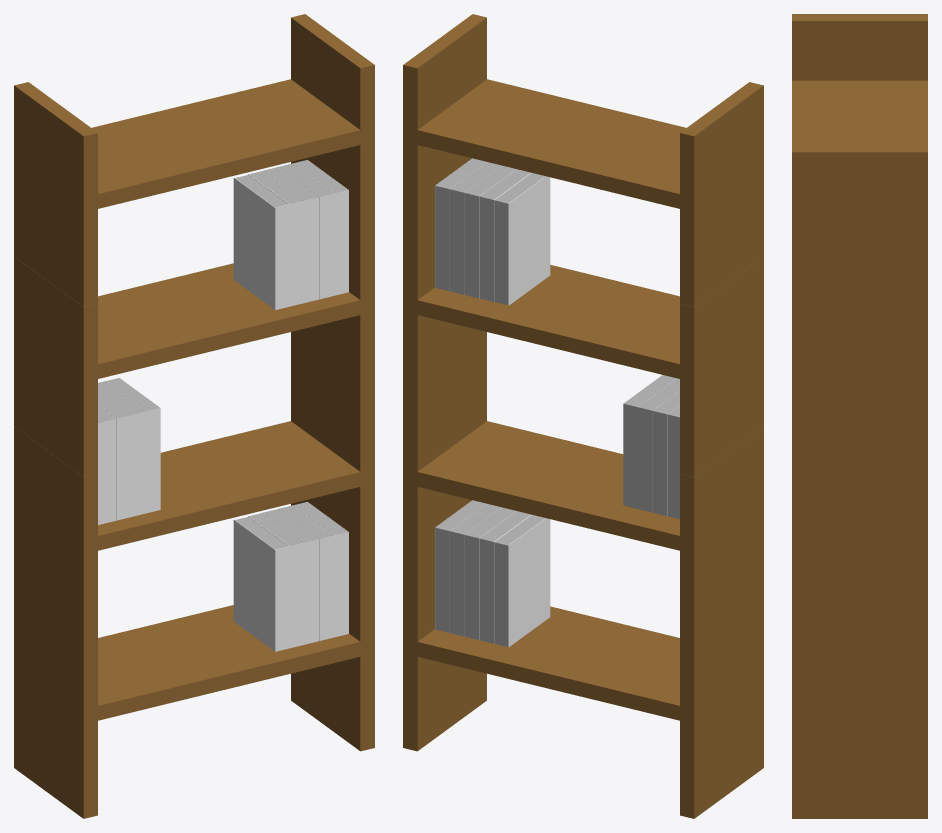
File: classroom_bookshelf.glb
3 renders of one model, left to right at view 1: azimuth 30°, elevation 25°; view 2: azimuth 150°, elevation 25°; view 3: azimuth 270°, elevation 25°, orthographic. The views are drawn at different scales.
Visible parts, largest first — view 1: Cube.004, Cube, Cube.002, Cube.003, Cube.001, Book0.002, Book0, Book3.002, Book2.002, Book3, Book2, Book4.002 (+7 smaller); view 2: Cube.004, Cube, Cube.002, Cube.003, Cube.001, Book0.002, Book0, Book2.002, Book3.002, Book3, Book2, Book4.006 (+7 smaller); view 3: Cube, Cube.004.
Part boxes in pixels (x1,y1,x2,y2): Cube.004: (14, 79, 360, 306); Cube: (291, 14, 374, 751); Cube.002: (14, 421, 360, 648); Cube.003: (14, 256, 360, 476); Cube.001: (14, 598, 360, 818); Book0.002: (233, 174, 289, 310); Book0: (233, 516, 289, 651); Book3.002: (278, 163, 334, 299); Book2.002: (263, 167, 319, 302); Book3: (278, 505, 334, 640); Book2: (263, 509, 319, 644); Book4.002: (293, 160, 348, 295); Cube.004: (417, 79, 763, 306); Cube: (403, 14, 486, 751); Cube.002: (417, 421, 763, 648); Cube.003: (417, 256, 763, 476); Cube.001: (417, 598, 763, 818); Book0.002: (494, 173, 550, 305); Book0: (494, 514, 550, 647); Book2.002: (464, 165, 516, 298); Book3.002: (449, 162, 501, 294); Book3: (449, 504, 501, 636); Book2: (464, 507, 516, 639); Book4.006: (623, 375, 676, 508); Cube: (792, 145, 927, 818); Cube.004: (792, 14, 927, 145).
Bounding box in the file's own units: 0.8921 × 2 × 0.3693.
